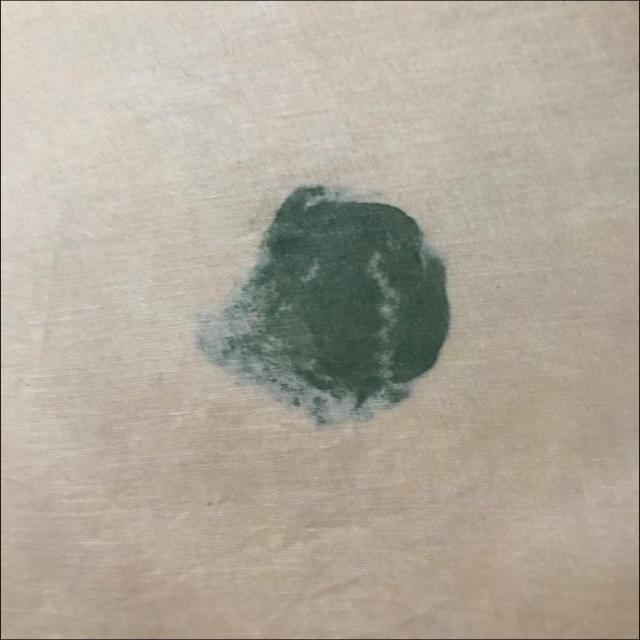Stain: (191, 183, 451, 430)
